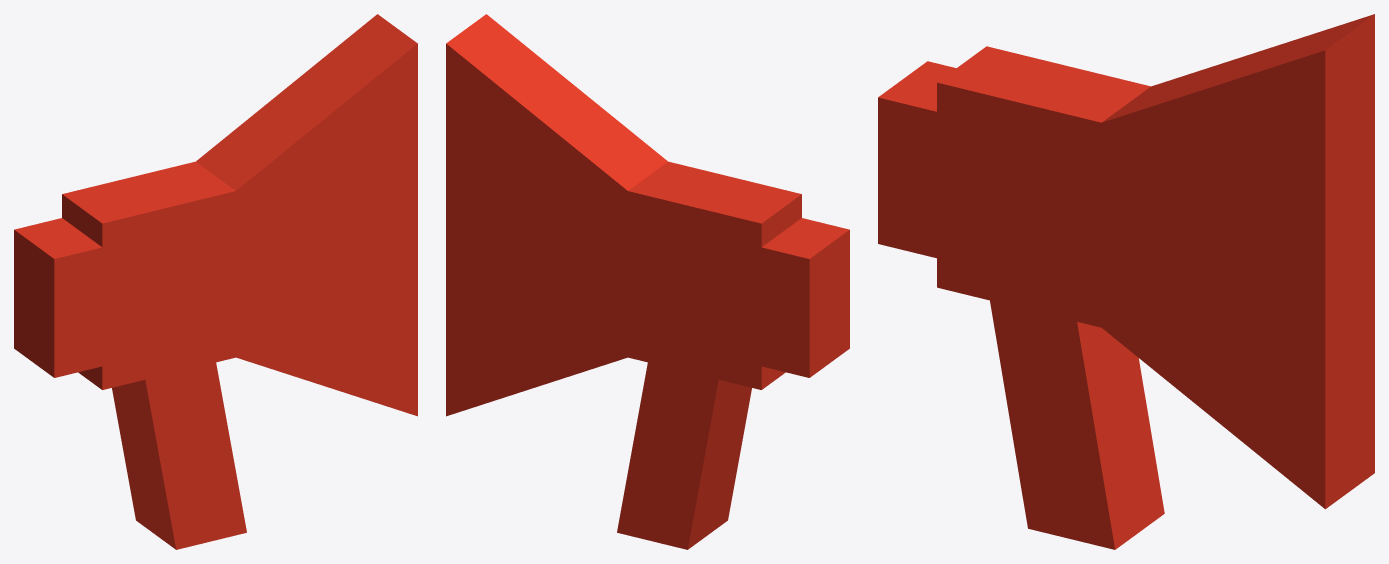
The model's file is Icon_Megaphone.fbx.
3 views of the same model, side by side, from view 1: azimuth 30°, elevation 25°; view 2: azimuth 150°, elevation 25°; view 3: azimuth 330°, elevation 25° (orthographic). The views are drawn at different scales.
Parts seen in each view (by area): view 1: Icon_Megaphone; view 2: Icon_Megaphone; view 3: Icon_Megaphone.
Boxes of the visible parts, bbox=[...] form: Icon_Megaphone: bbox=[14, 14, 417, 549]; Icon_Megaphone: bbox=[446, 14, 849, 549]; Icon_Megaphone: bbox=[878, 14, 1374, 549].
Size of the model in its own units: 62.83 by 73.95 by 12.06.
